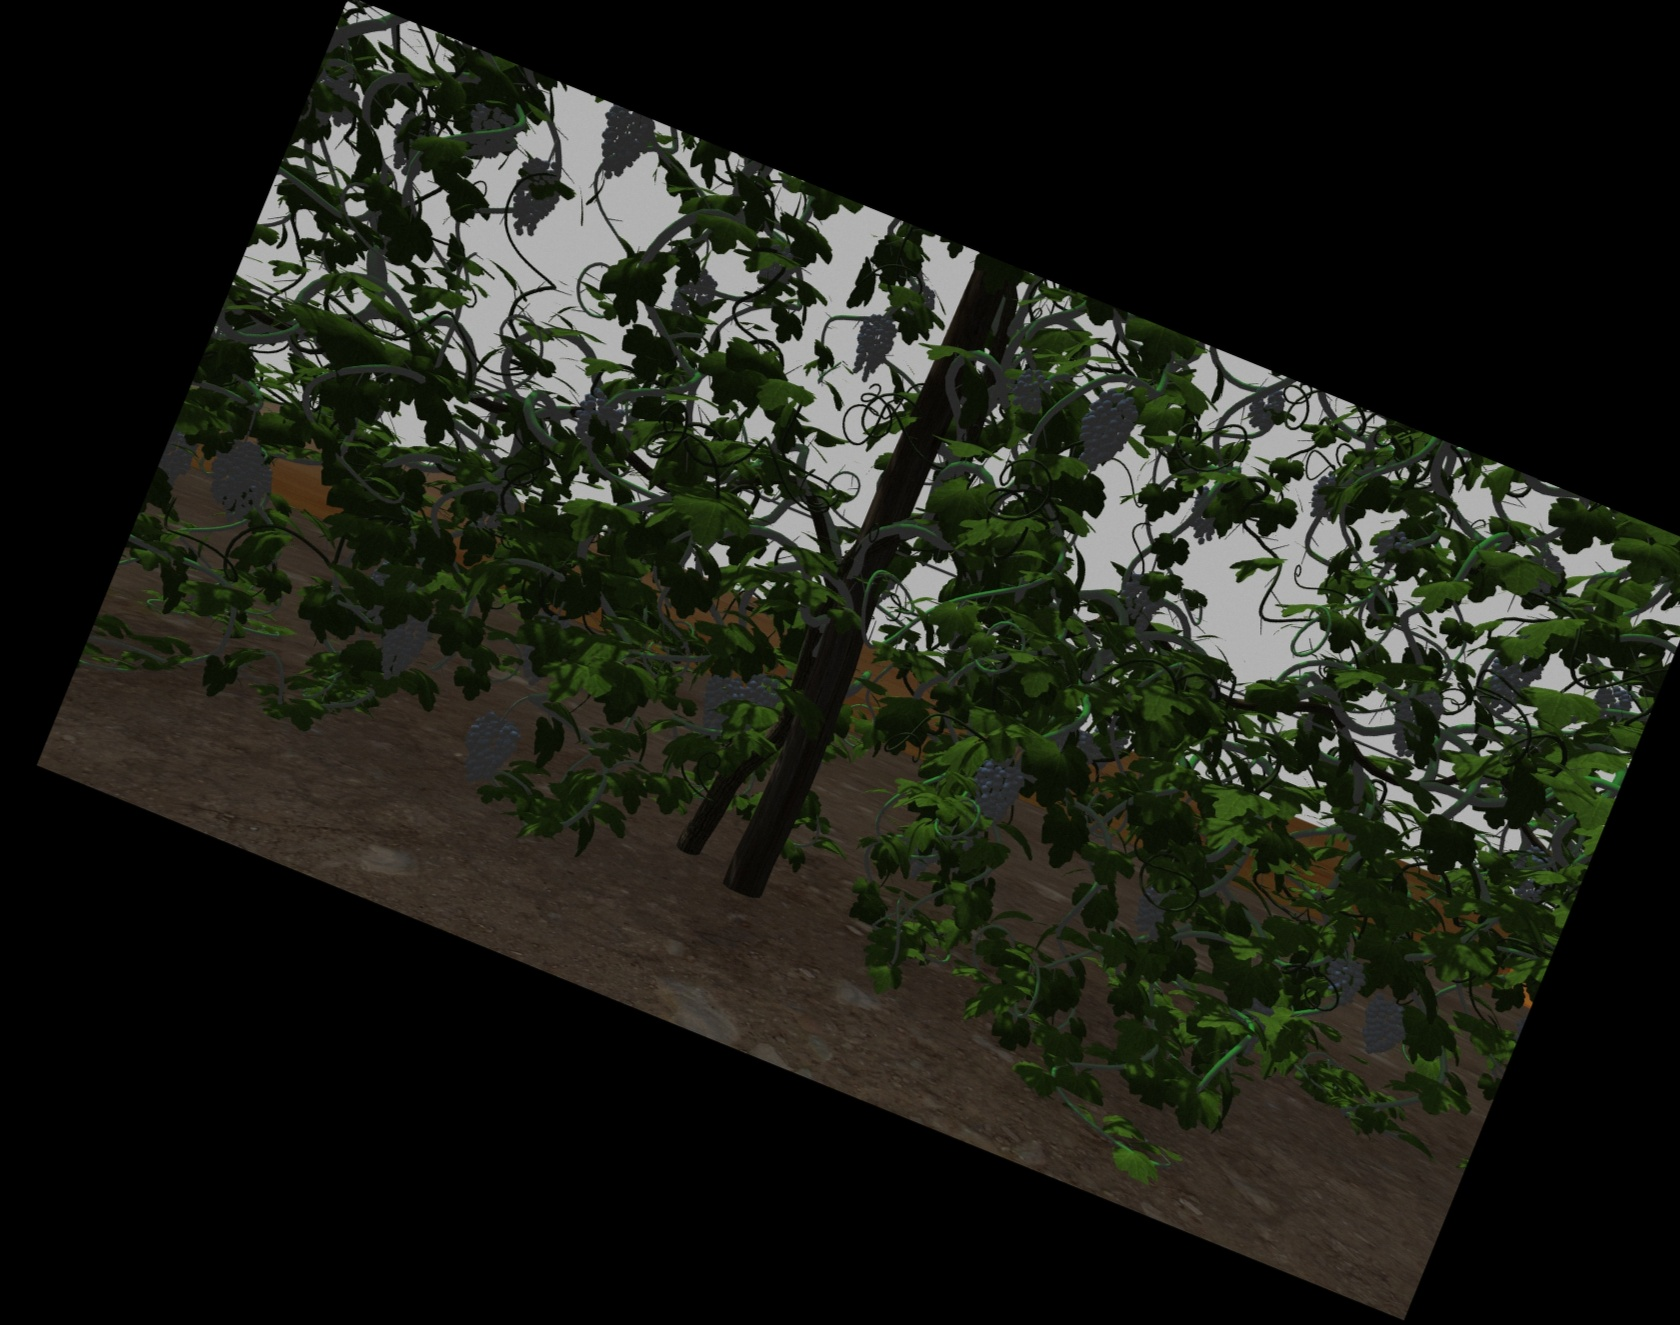grape: (209, 444, 271, 517), (1083, 389, 1130, 472), (461, 714, 511, 788), (511, 161, 560, 234), (593, 117, 650, 180), (383, 601, 427, 682), (1482, 656, 1531, 717), (1360, 996, 1409, 1056), (970, 765, 1019, 823), (465, 110, 520, 161), (1395, 690, 1436, 757), (574, 391, 620, 448), (1120, 573, 1163, 628), (854, 316, 890, 380), (702, 673, 739, 727), (676, 269, 713, 318), (1325, 958, 1364, 1005), (1135, 889, 1173, 934), (1015, 369, 1049, 412), (1376, 528, 1414, 562), (745, 677, 779, 712), (1250, 391, 1280, 429)
